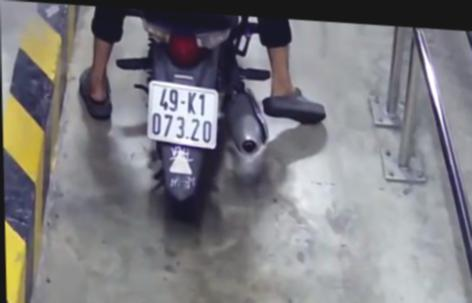License_Plate: (144, 78, 224, 157)
